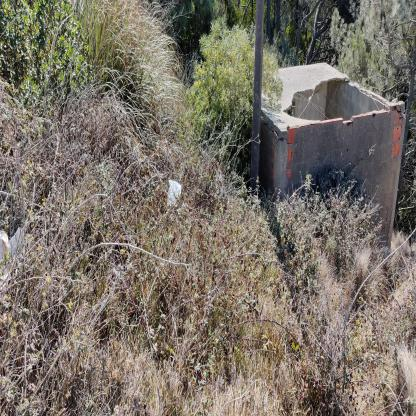plastik: (169, 180, 183, 208)
